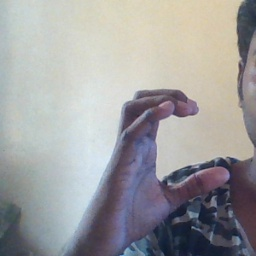C: (113, 75, 231, 214)
